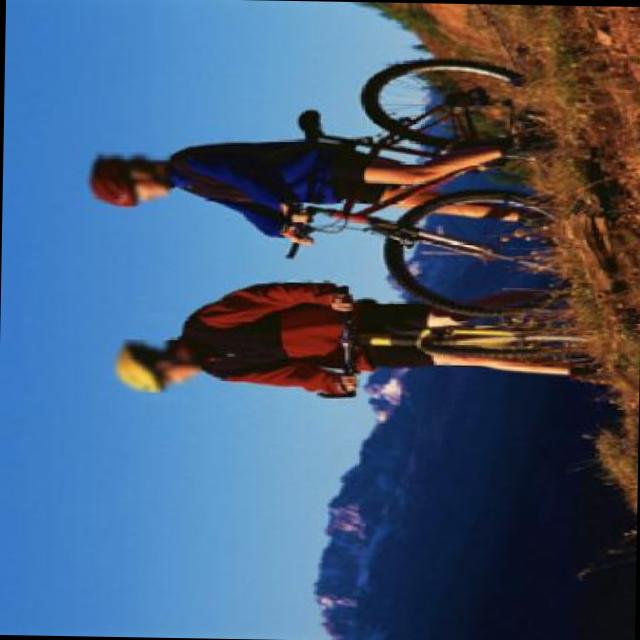With Helmet: (105, 338, 204, 393), (82, 150, 173, 206)
